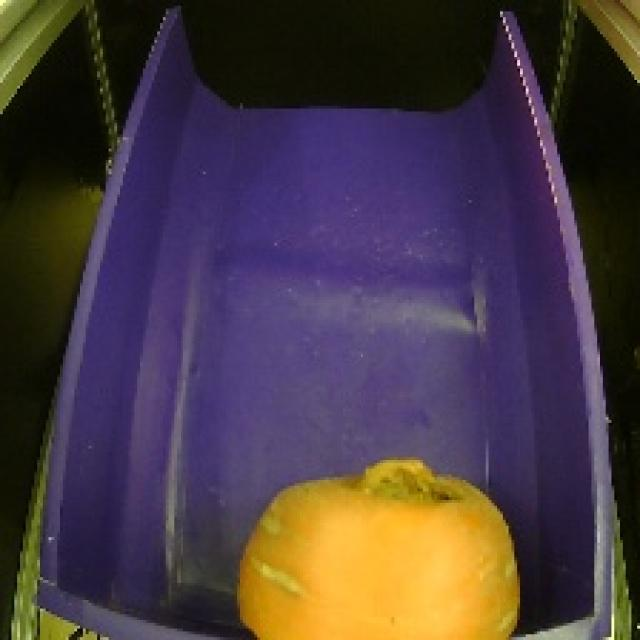carrots: (217, 451, 534, 640)
